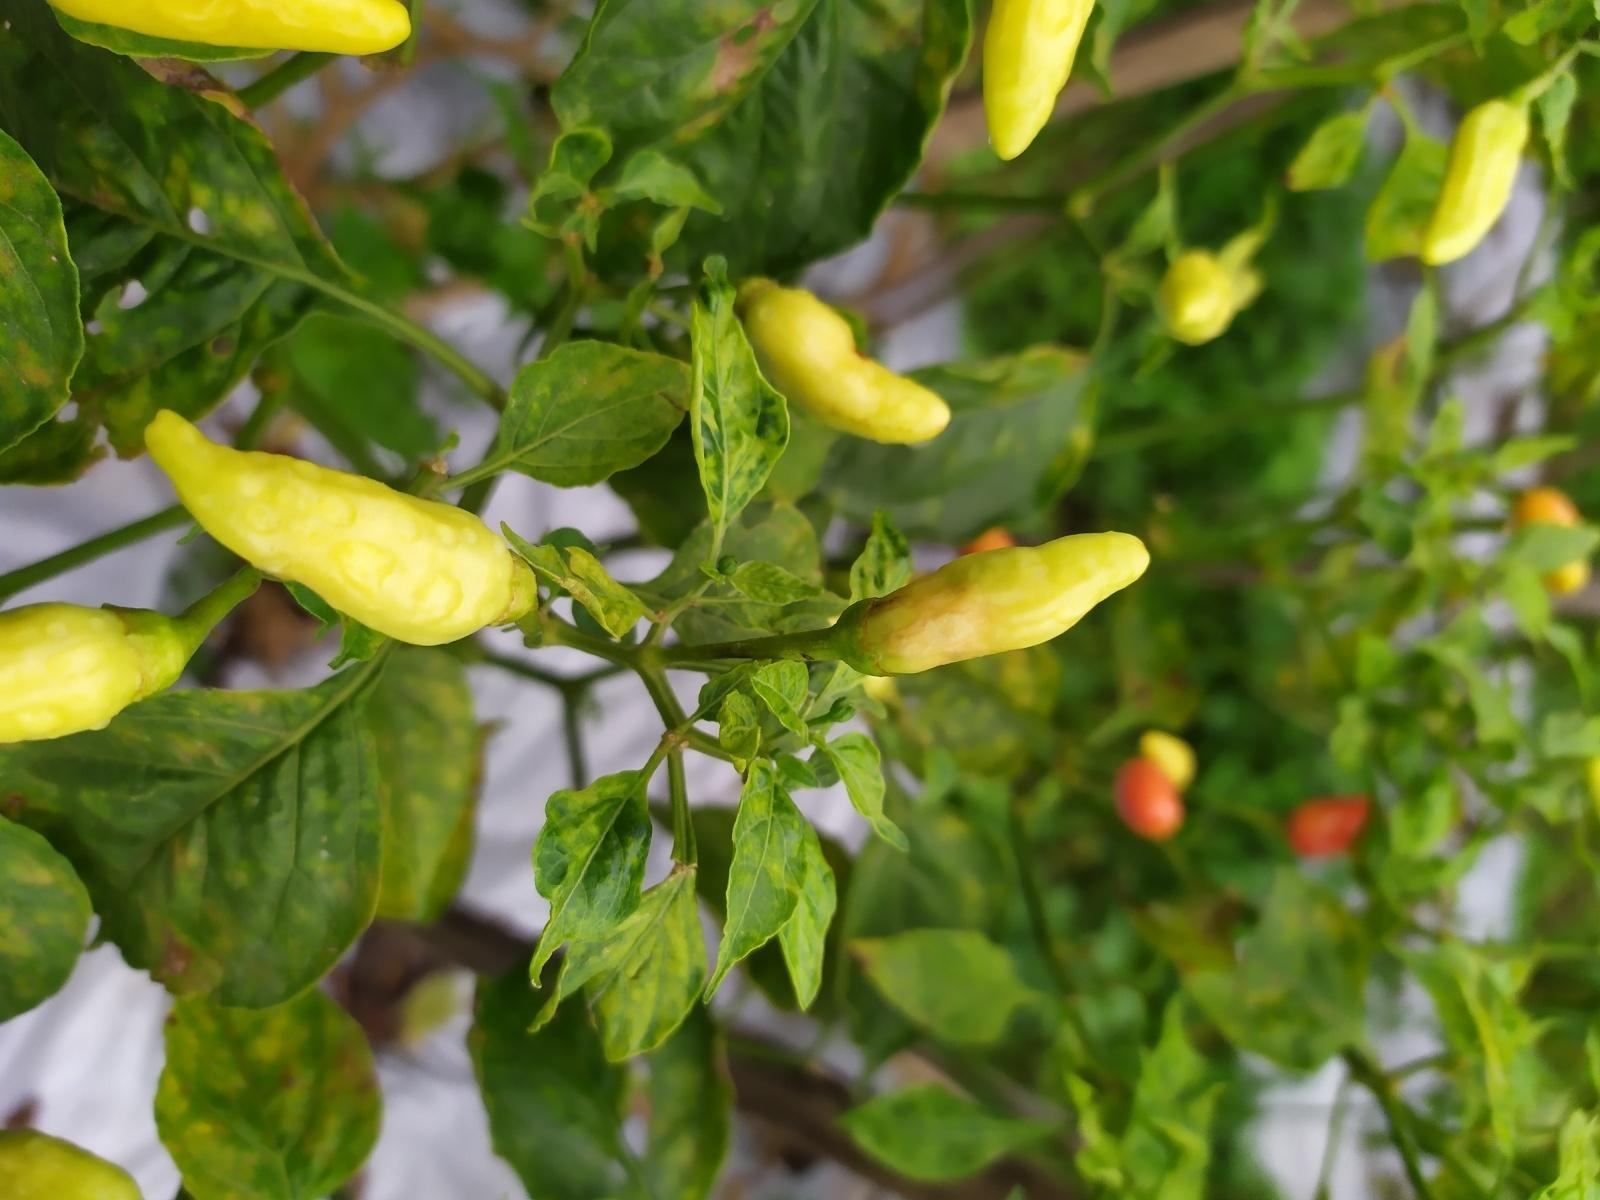cabai_normal: (145, 408, 514, 648), (734, 285, 950, 445), (980, 1, 1104, 164), (53, 1, 411, 55), (1419, 101, 1529, 268), (1153, 245, 1232, 344), (1107, 758, 1186, 845)
lalat_buah: (845, 532, 1150, 674)
